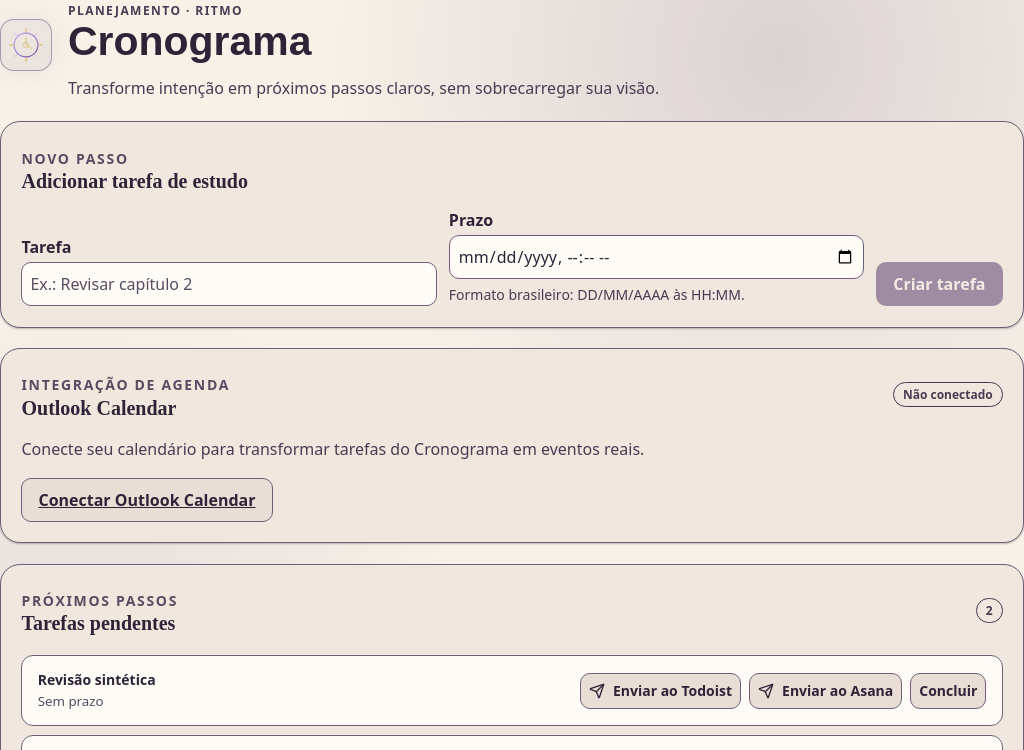
Test: pending task mutations › tracks completion independently for multiple tasks
Click the button "Concluir" in the row of "Revisão sintética" at x=948, y=691, box [910,673,986,709]
(page scrolled)
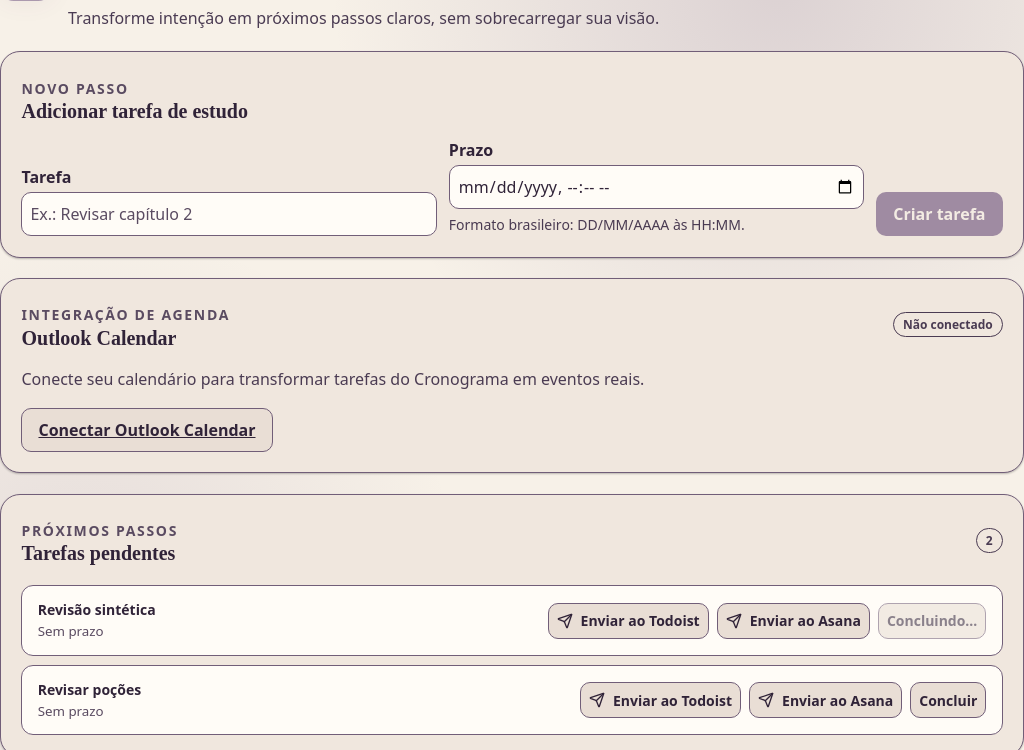
Click the button "Concluir" at x=948, y=700, box [910,682,986,718]
(page scrolled)
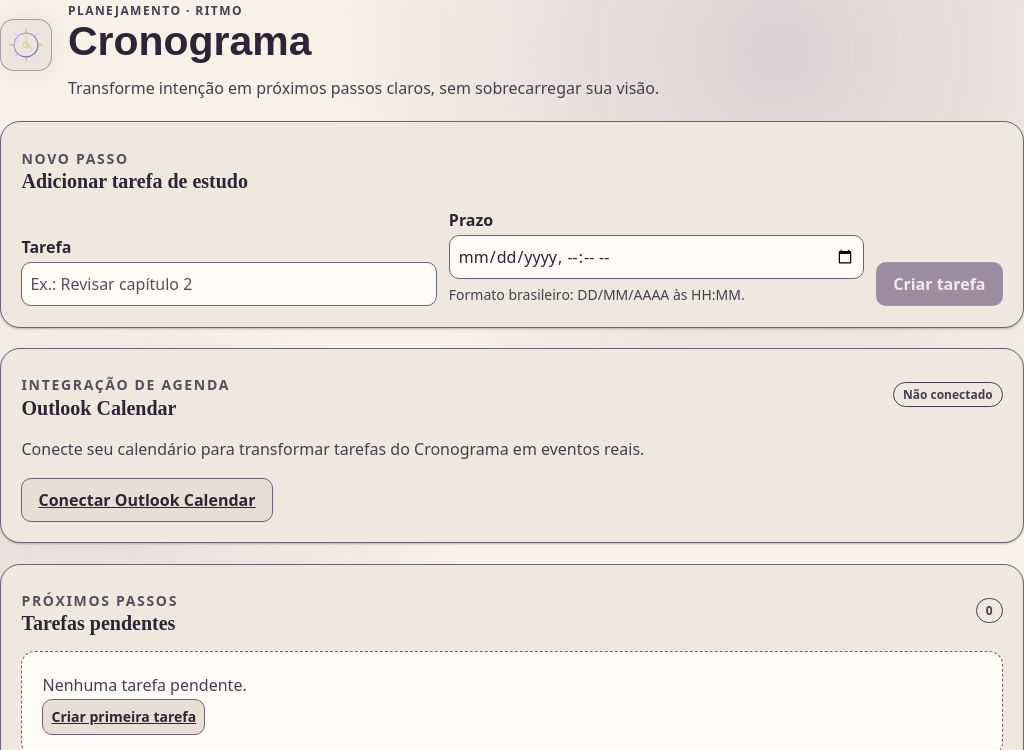
Now the text "Revisão sintética" is gone
Now the text "Revisar poções" is gone
